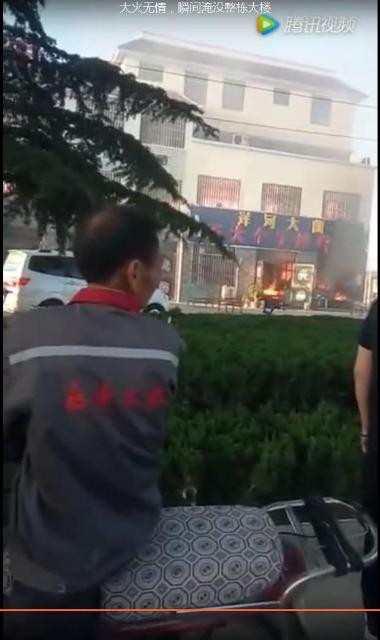fire: (262, 286, 277, 294)
